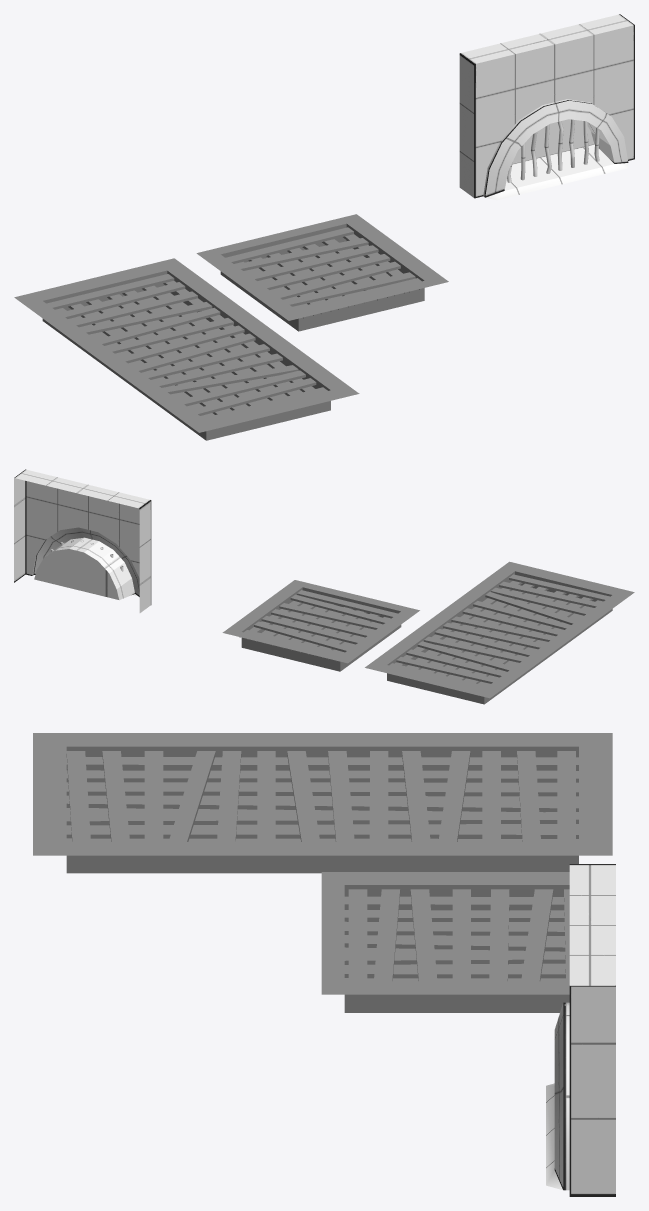
The model's file is Drain.FBX.
3 views of the same model, one above another, from view 1: azimuth 30°, elevation 25°; view 2: azimuth 150°, elevation 25°; view 3: azimuth 270°, elevation 25° (orthographic). The views are drawn at different scales.
Visible parts, largest first — view 1: simpleFloor001, Cylinder011, simpleFloor002; view 2: simpleFloor001, Cylinder011, simpleFloor002; view 3: simpleFloor001, simpleFloor002, Cylinder011.
Part boxes in pixels (x1=…): simpleFloor001: x1=14, y1=258, x2=359, y2=440; Cylinder011: x1=459, y1=14, x2=634, y2=200; simpleFloor002: x1=196, y1=214, x2=448, y2=331; simpleFloor001: x1=365, y1=561, x2=634, y2=704; Cylinder011: x1=14, y1=469, x2=151, y2=612; simpleFloor002: x1=222, y1=580, x2=419, y2=671; simpleFloor001: x1=33, y1=733, x2=612, y2=873; simpleFloor002: x1=321, y1=872, x2=569, y2=1012; Cylinder011: x1=546, y1=864, x2=615, y2=1196.
Bounding box in the file's own units: 946 × 230 × 503.
